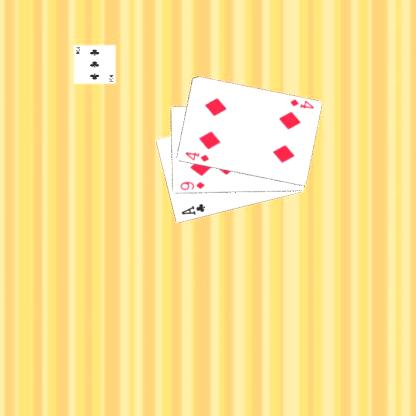4D: (182, 150, 210, 164), (287, 96, 315, 110)
9D: (178, 179, 206, 191)
AC: (178, 201, 206, 216)
